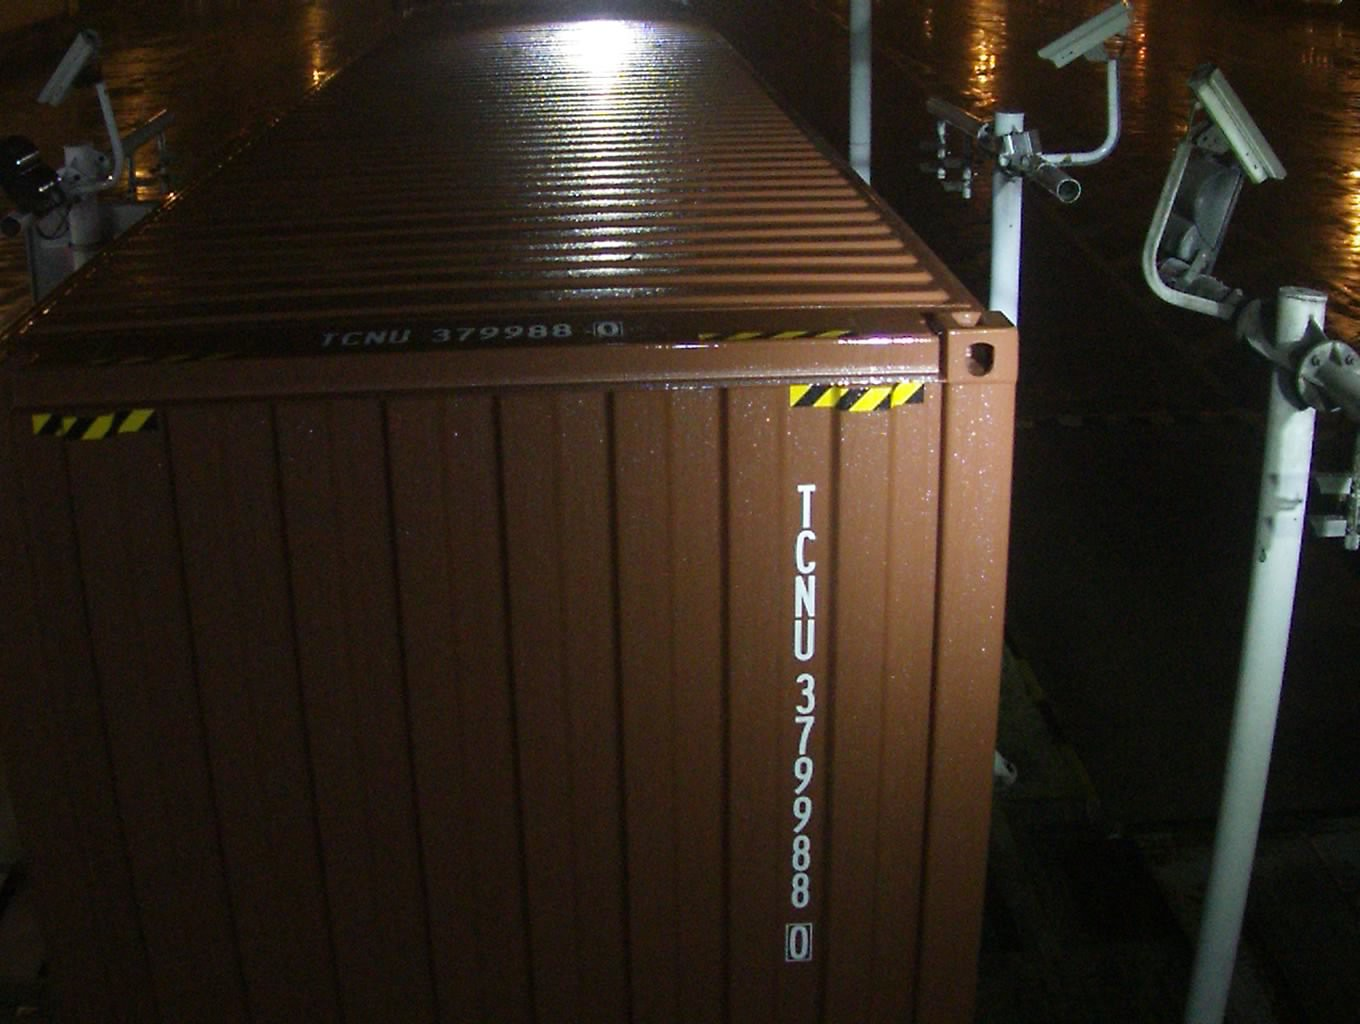words: (774, 472, 829, 959)
